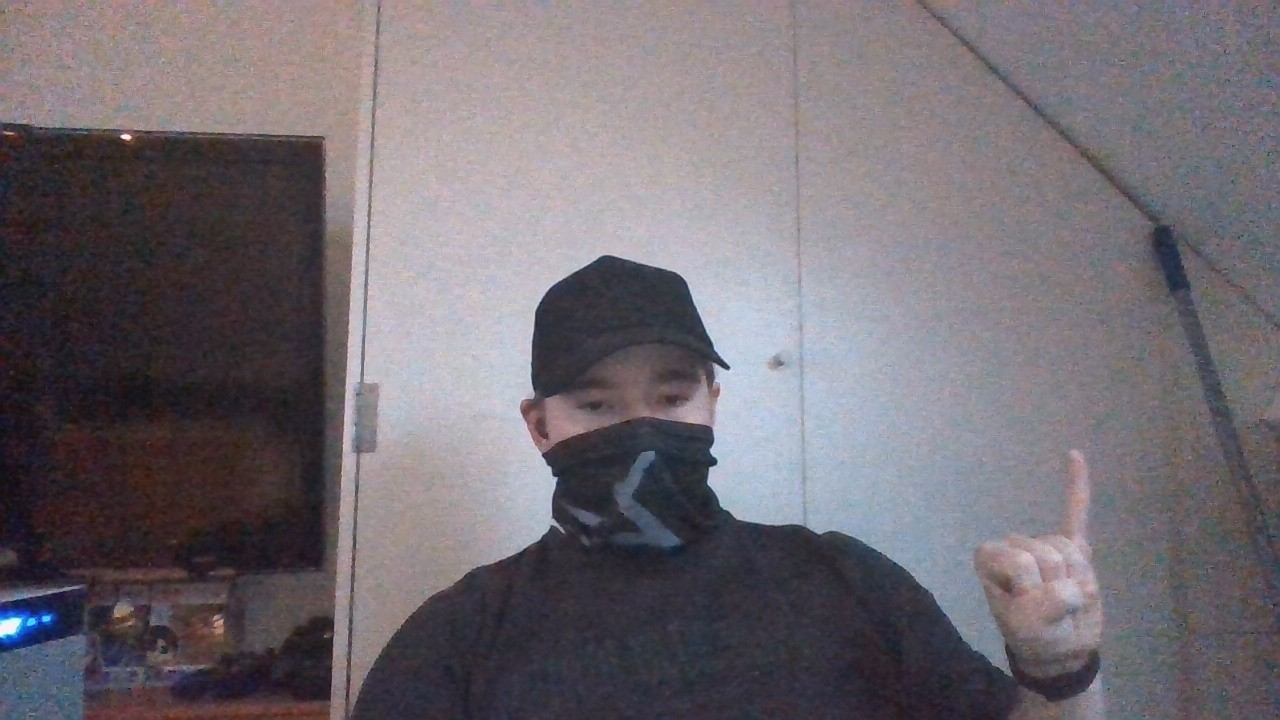I" Sign language: (966, 448, 1129, 660)
